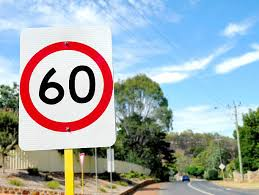Speed_limit_60km: (20, 41, 115, 131)
